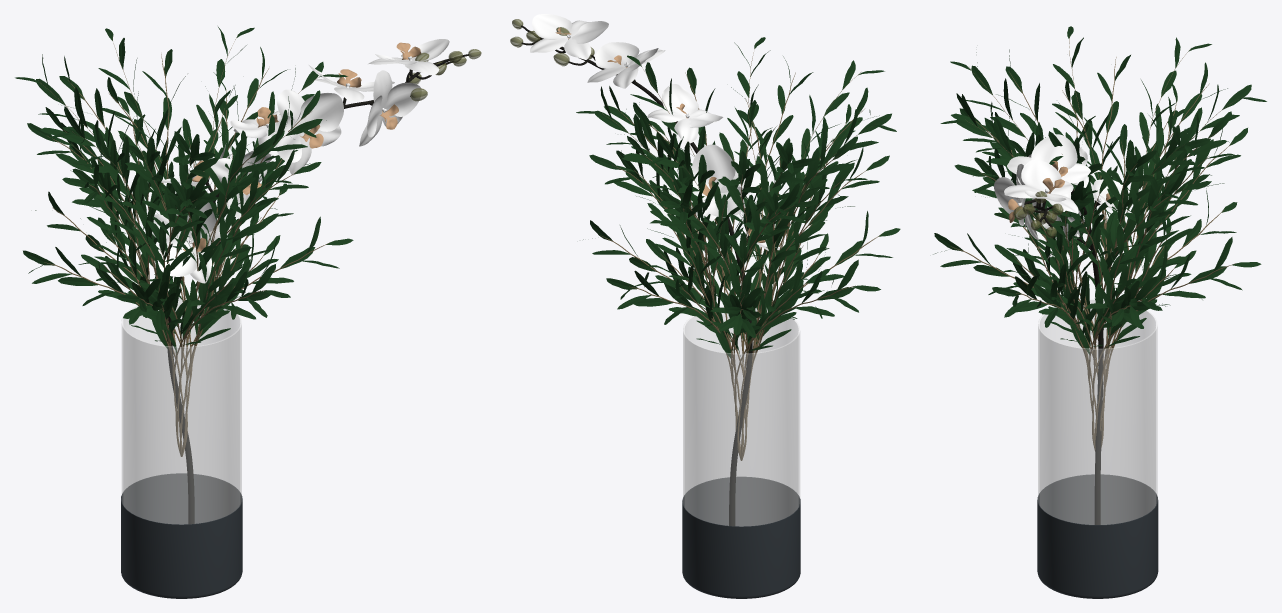
The model's file is bouquet_1734982076363.glb.
The picture shows the model from 3 angles, left to right: view 1: azimuth 30°, elevation 25°; view 2: azimuth 150°, elevation 25°; view 3: azimuth 270°, elevation 25°; orthographic projection. The views are drawn at different scales.
Bounding box in the file's own units: 2.59 × 3 × 1.84.
